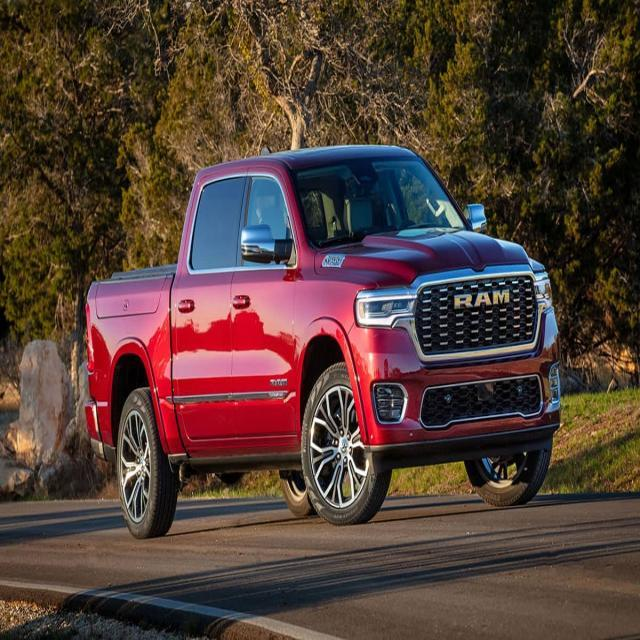person: (83, 141, 562, 539)
